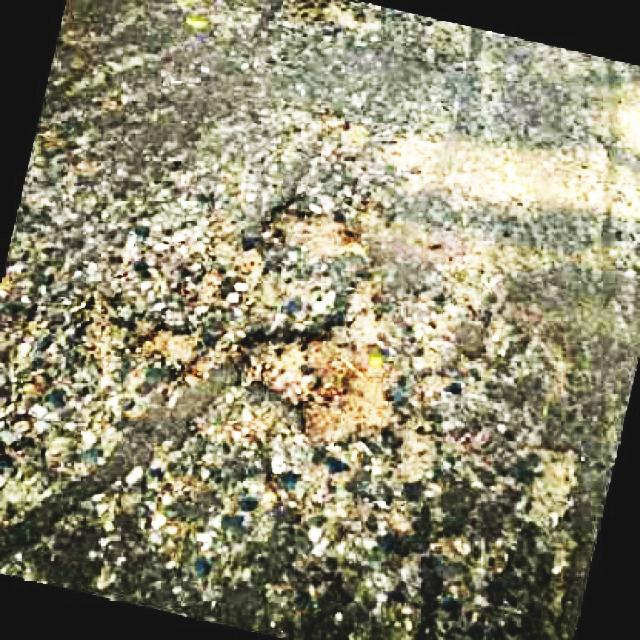pothole: (234, 275, 409, 451), (37, 290, 221, 396), (262, 194, 371, 261)
